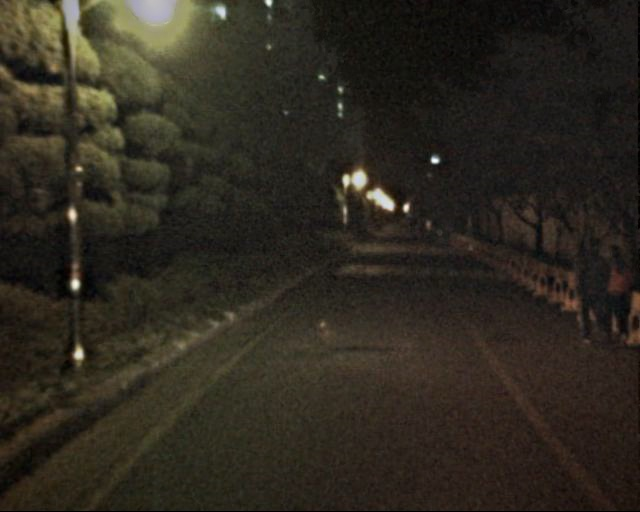person: (569, 242, 616, 347), (598, 245, 638, 342)
